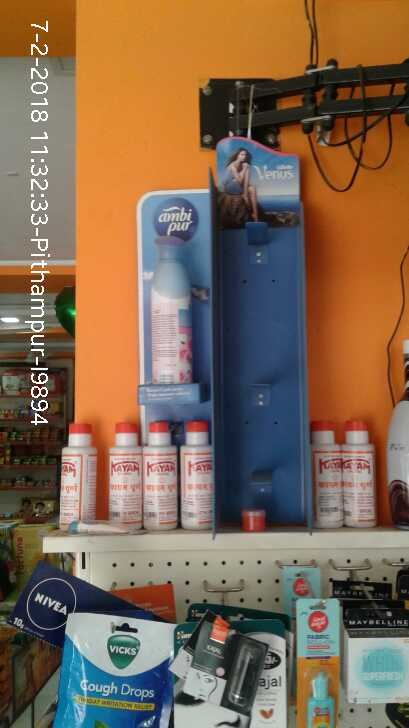home: (144, 228, 200, 390)
pharmacy: (56, 608, 168, 728)
